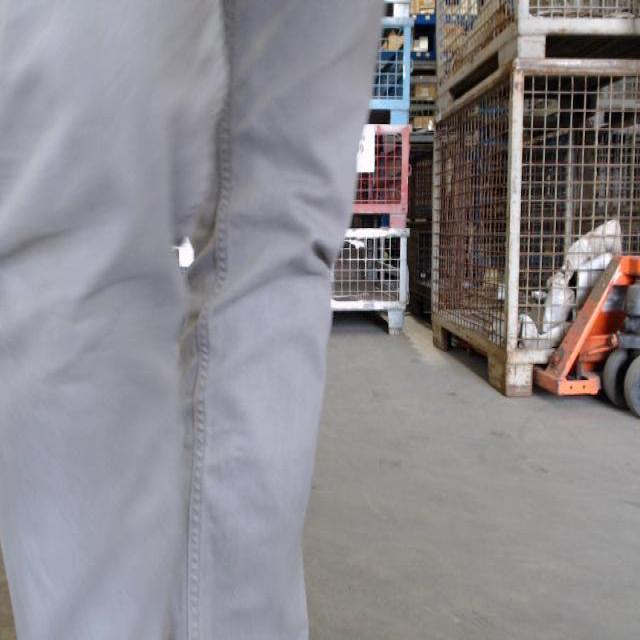pallet_truck: (520, 234, 638, 425)
stillage: (433, 49, 640, 400), (439, 4, 639, 113), (327, 223, 413, 338), (344, 118, 417, 224), (365, 13, 415, 120), (412, 225, 467, 316), (410, 142, 438, 221)
